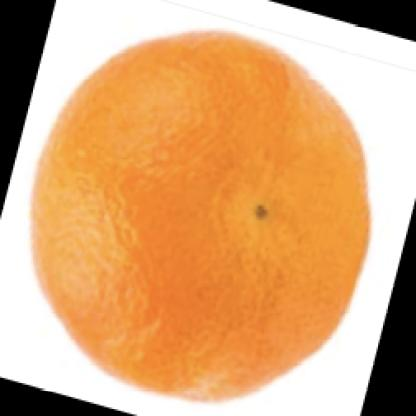fresh: (34, 30, 371, 397)
